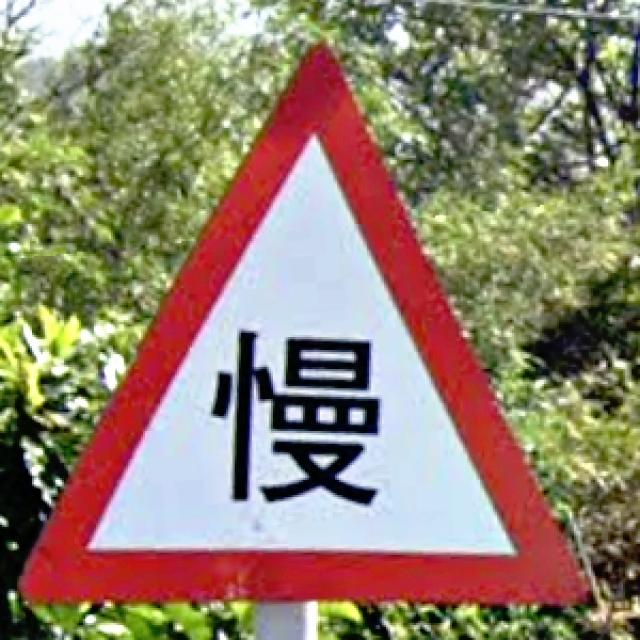slow: (21, 45, 586, 603)
